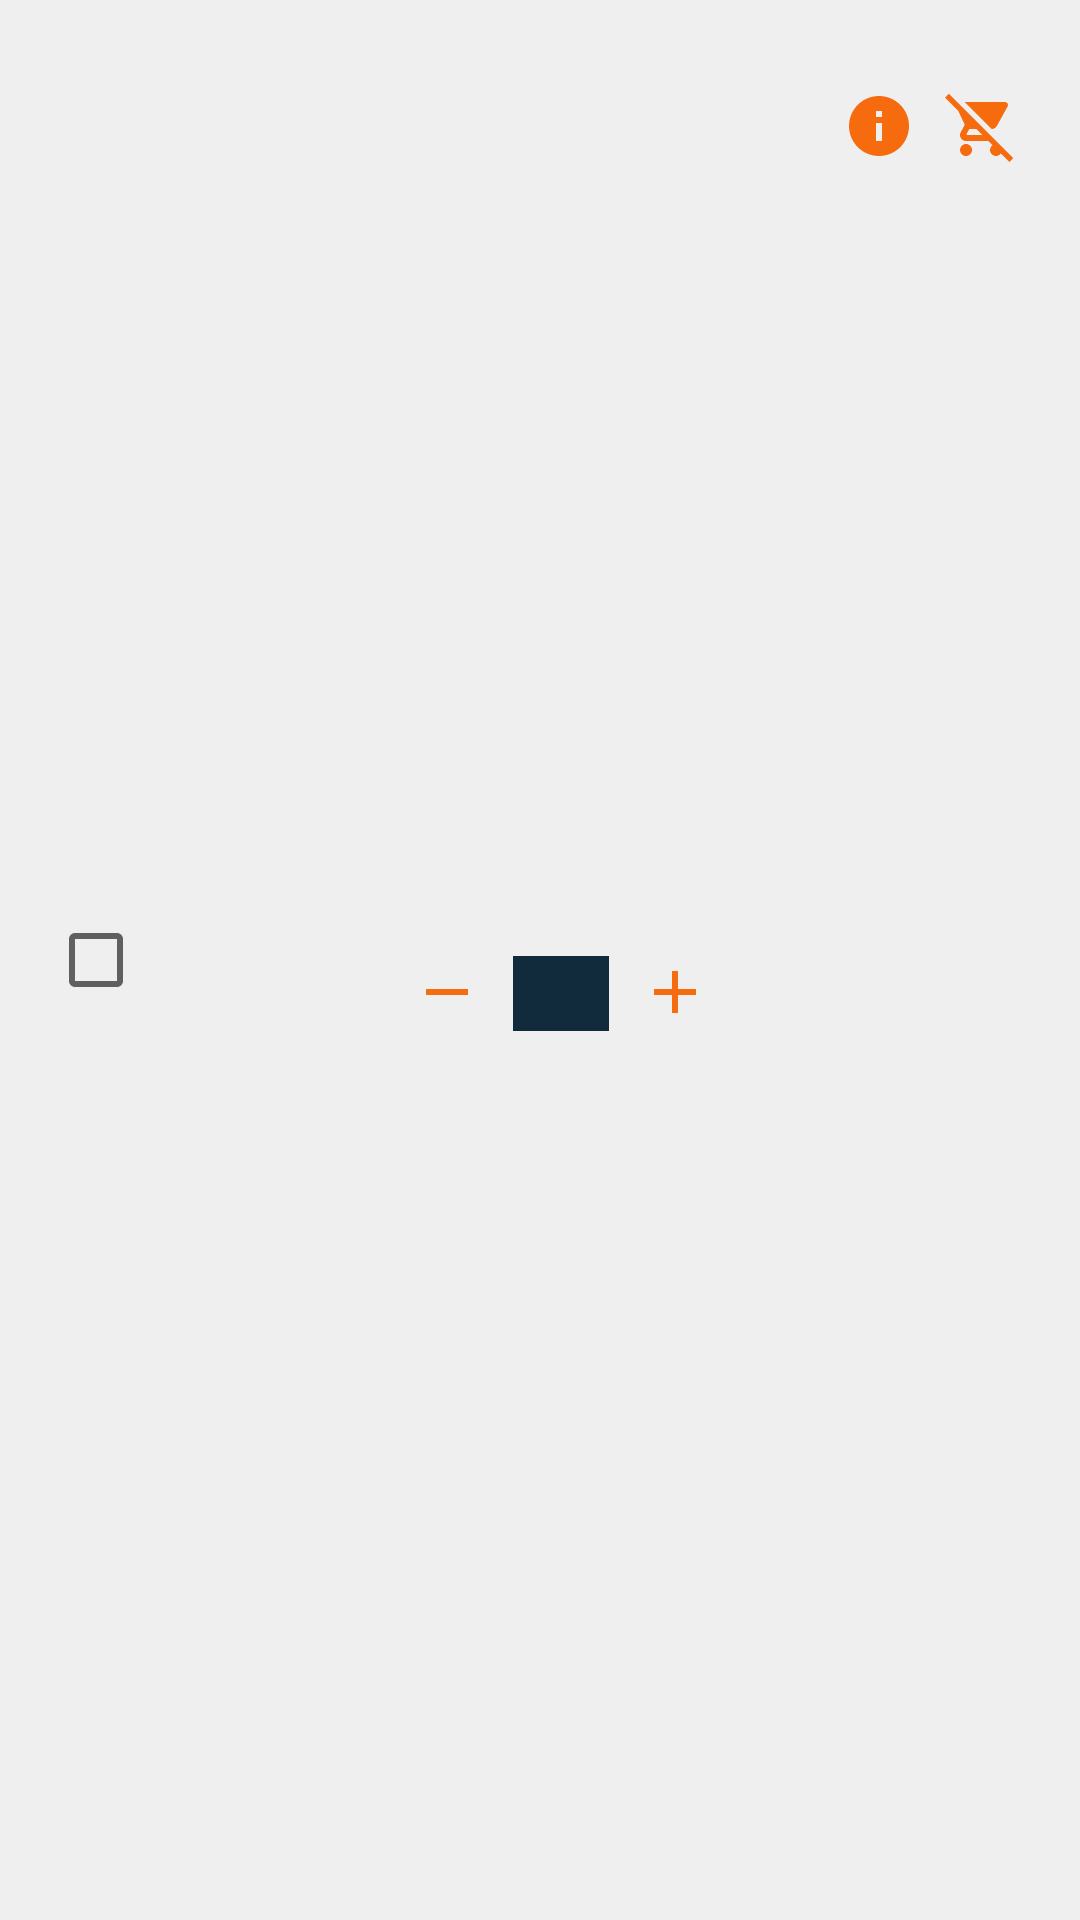

Icons on this 1080*1920 Android screen, each with its box as detection(x1, y1, x2, y2):
add: detection(654, 971, 696, 1013)
info: detection(849, 96, 909, 156)
remove shopping cart: detection(945, 94, 1013, 162)
